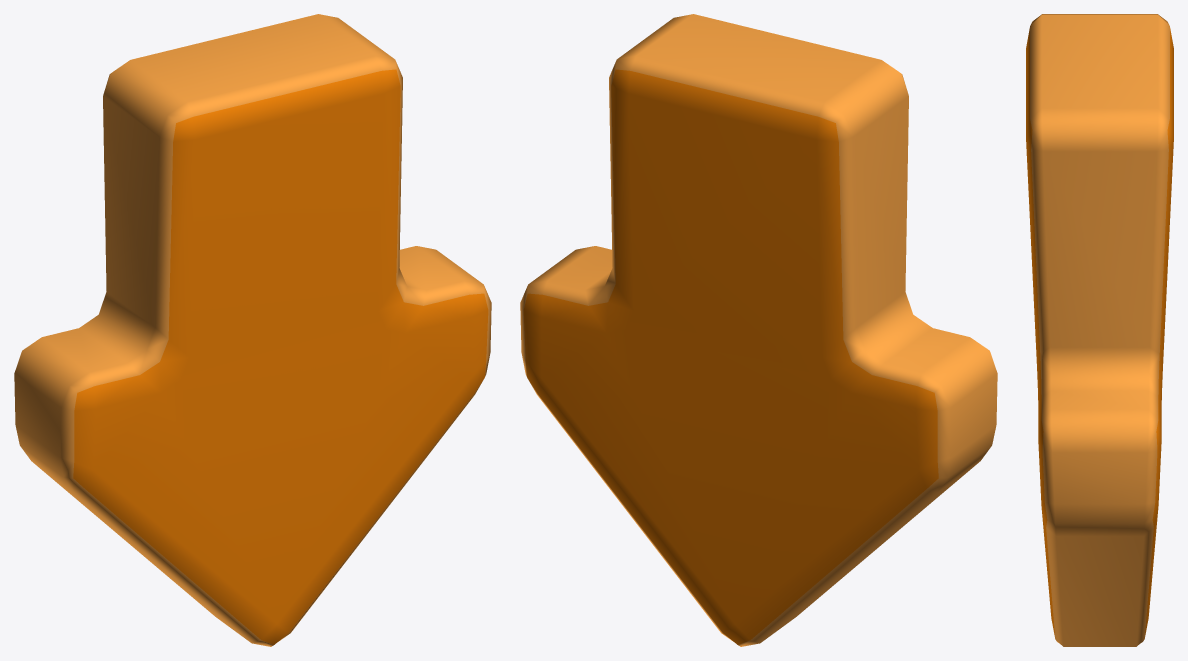
The model's file is arrow.fbx.
3 renders of one model, left to right at view 1: azimuth 30°, elevation 25°; view 2: azimuth 150°, elevation 25°; view 3: azimuth 270°, elevation 25°, orthographic.
Parts seen in each view (by area): view 1: arrow; view 2: arrow; view 3: arrow.
Part boxes in pixels (x1,y1,x2,y2): arrow: (14,14,491,646); arrow: (520,14,997,646); arrow: (1026,14,1173,646).
Size of the model in its own units: 80.65 by 103 by 23.62.
